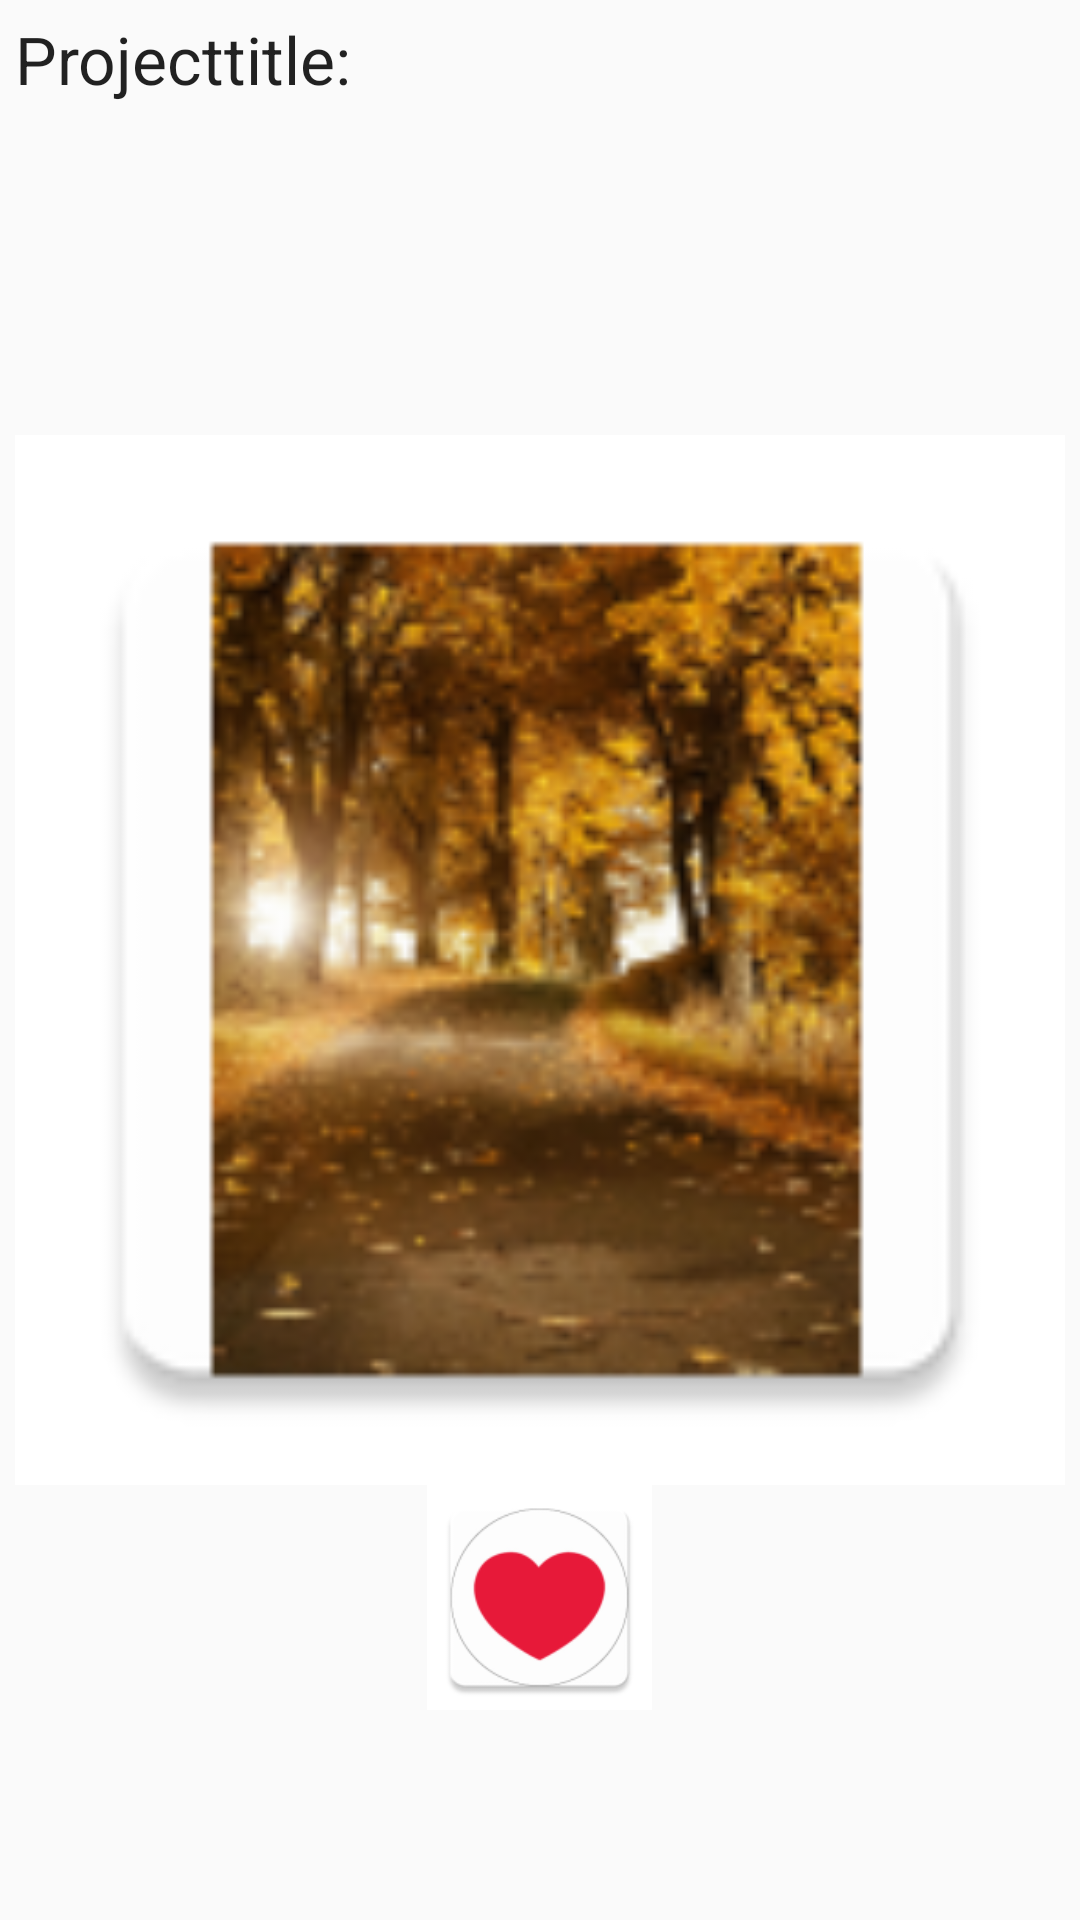

Where icons sit on this 1080px x 1920px app screen, as (x1, y1, x2, y2):
heart: (450, 1508, 630, 1692)
